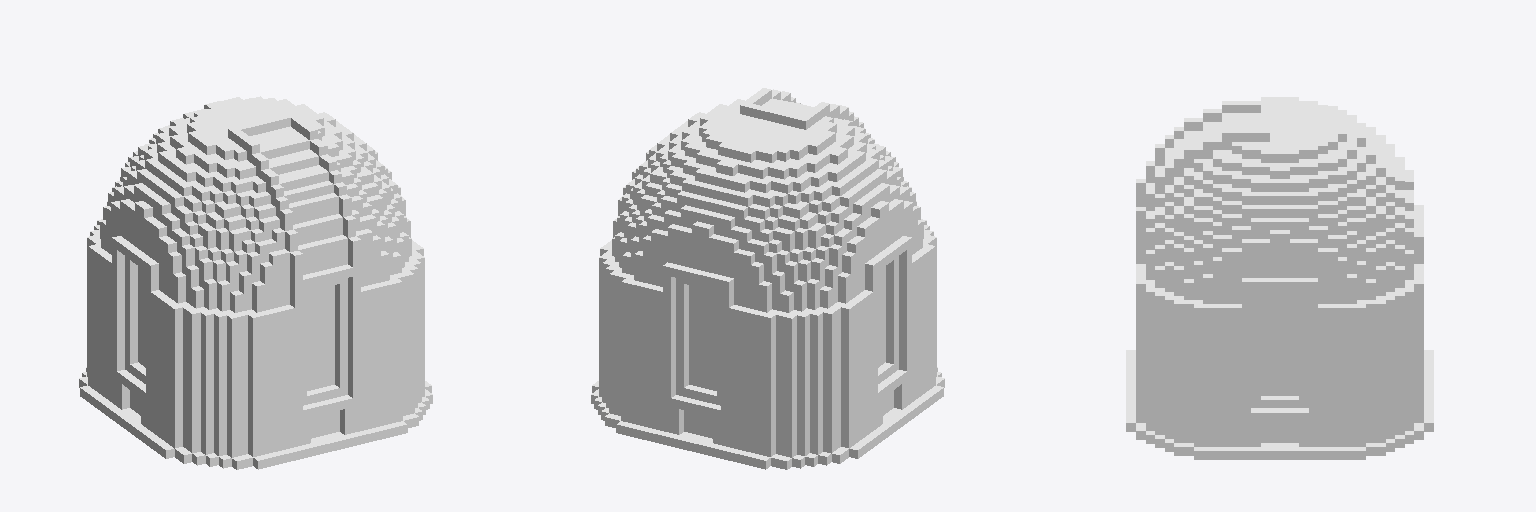
Rendered from researchCenter_lowLevel.obj.
The picture shows the model from 3 angles: view 1: azimuth 30°, elevation 25°; view 2: azimuth 150°, elevation 25°; view 3: azimuth 270°, elevation 25°; orthographic projection.
Parts seen in each view (by area): view 1: object 1; view 2: object 1; view 3: object 1.
Boxes of the visible parts, <box> form: object 1: <box>79,96,432,469</box>; object 1: <box>591,88,944,469</box>; object 1: <box>1126,97,1433,459</box>.
Size of the model in its own units: 3.2 by 3.2 by 3.2.